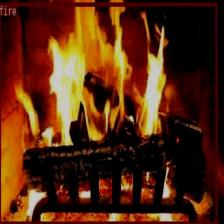fire: (0, 2, 217, 224)
